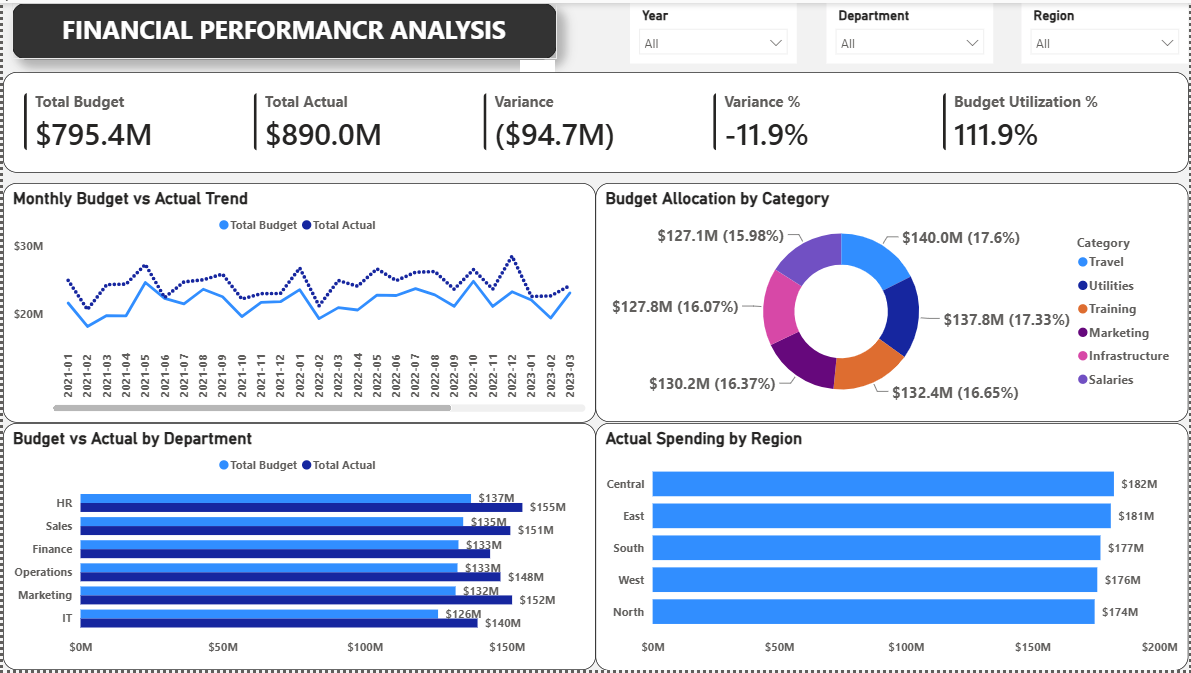

This screenshot's page, from the dashboard's own definition file:
{"tool":"powerbi","page":{"name":"financial performance analysis","canvas":[1280,720],"ordinal":0},"visuals":[{"type":"textbox","box":[9.4,0,587.7,60.5],"z":0},{"type":"cardVisual","fields":{"Data":["Finance.Total Budget","Finance.Total Actual","Finance.Variance","Finance.Variance %","Finance.Budget Utilization %"]},"box":[0,75,1280,108.3],"z":1000},{"type":"lineChart","title":"Monthly Budget vs Actual Trend","fields":{"Category":["Date Table.Year-Month"],"Y":["Finance.Total Budget","Finance.Total Actual"]},"box":[0,195,640,258.3],"z":2000},{"type":"clusteredBarChart","title":"Budget vs Actual by Department","fields":{"Category":["Finance.Department"],"Y":["Finance.Total Budget","Finance.Total Actual"]},"box":[0,453.3,640,266.7],"z":3000},{"type":"donutChart","title":"Budget Allocation by Category","fields":{"Category":["Finance.Category"],"Y":["Finance.Total Budget"]},"box":[640,195,640,258],"z":4000},{"type":"barChart","title":"Actual Spending by Region","fields":{"Category":["Finance.Region"],"Y":["Finance.Total Actual"]},"box":[640,453,640,267],"z":5000},{"type":"slicer","fields":{"Values":["Date Table.Year"]},"box":[676.7,0,180,65],"z":6000},{"type":"slicer","fields":{"Values":["Finance.Department"]},"box":[888.3,0,180,65],"z":7000},{"type":"slicer","fields":{"Values":["Finance.Region"]},"box":[1100,0,180,65],"z":8000}]}

Visuals, with their boxes in screenshot pixels (x1, y1, x2, y2), scaled from the page's 1280x720 canvas onto the 1191x673 screenshot:
textbox: BBox(9, 0, 556, 57)
cardVisual - Finance.Total Budget x Finance.Total Actual: BBox(0, 70, 1190, 171)
"Monthly Budget vs Actual Trend" lineChart: BBox(0, 182, 596, 424)
"Budget vs Actual by Department" clusteredBarChart: BBox(0, 424, 596, 672)
"Budget Allocation by Category" donutChart: BBox(596, 182, 1190, 423)
"Actual Spending by Region" barChart: BBox(596, 423, 1190, 672)
slicer - Date Table.Year: BBox(630, 0, 797, 61)
slicer - Finance.Department: BBox(827, 0, 994, 61)
slicer - Finance.Region: BBox(1024, 0, 1190, 61)
